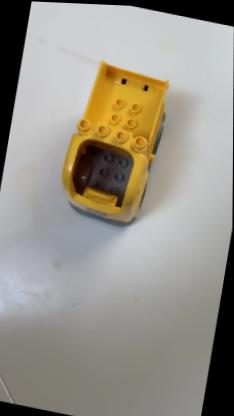yellow dump truck: (54, 52, 175, 232)
